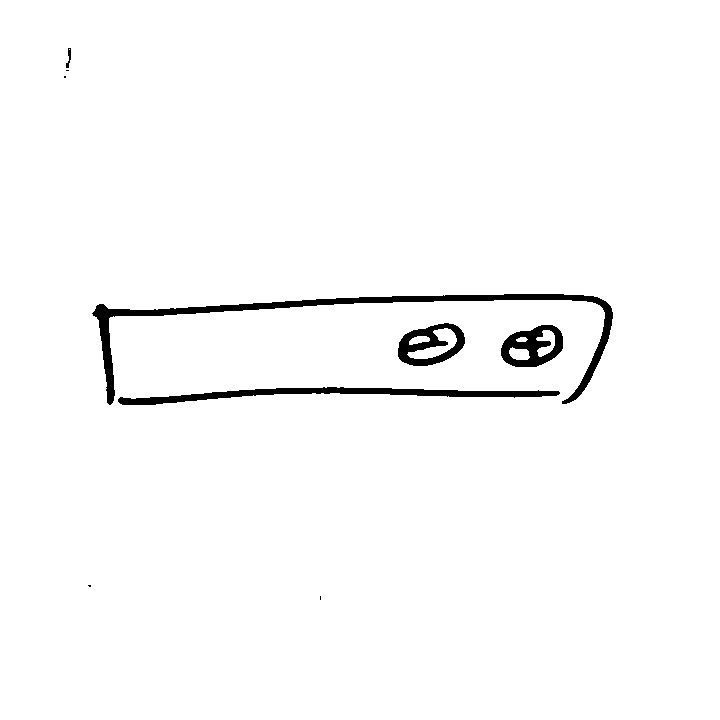inline stepper bar: (80, 283, 617, 415)
